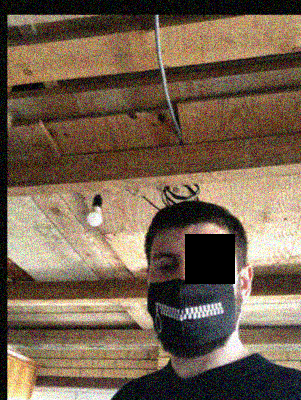with_mask: (147, 241, 235, 349)
